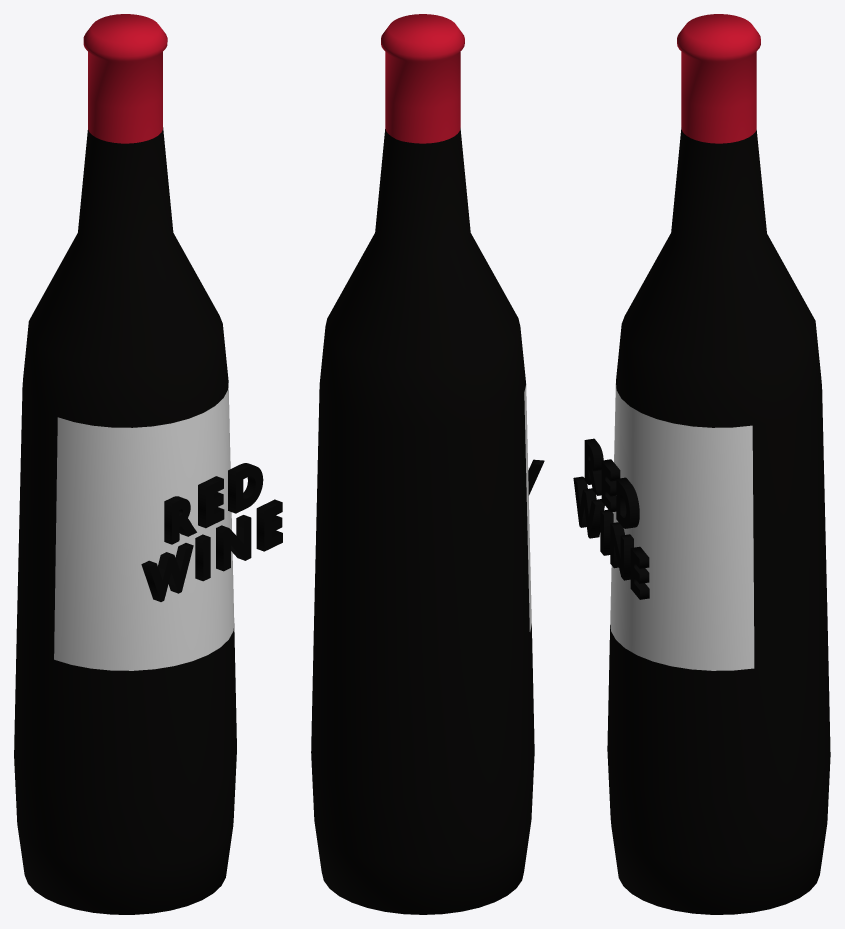
File: REDWINE.fbx
3 views of the same model, side by side, from view 1: azimuth 30°, elevation 25°; view 2: azimuth 150°, elevation 25°; view 3: azimuth 270°, elevation 25° (orthographic).
Parts seen in each view (by area): view 1: WINE, Text; view 2: WINE; view 3: WINE, Text.
Boxes of the visible parts, box(x1,y1,x2,y2) form: WINE: box(14, 14, 236, 914); Text: box(141, 463, 282, 601); WINE: box(311, 14, 534, 914); WINE: box(607, 14, 830, 914); Text: box(573, 438, 649, 599).
Size of the model in its own units: 613 by 2306 by 637.
